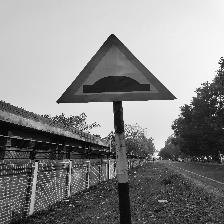Speed-breaker: (59, 39, 172, 102)
